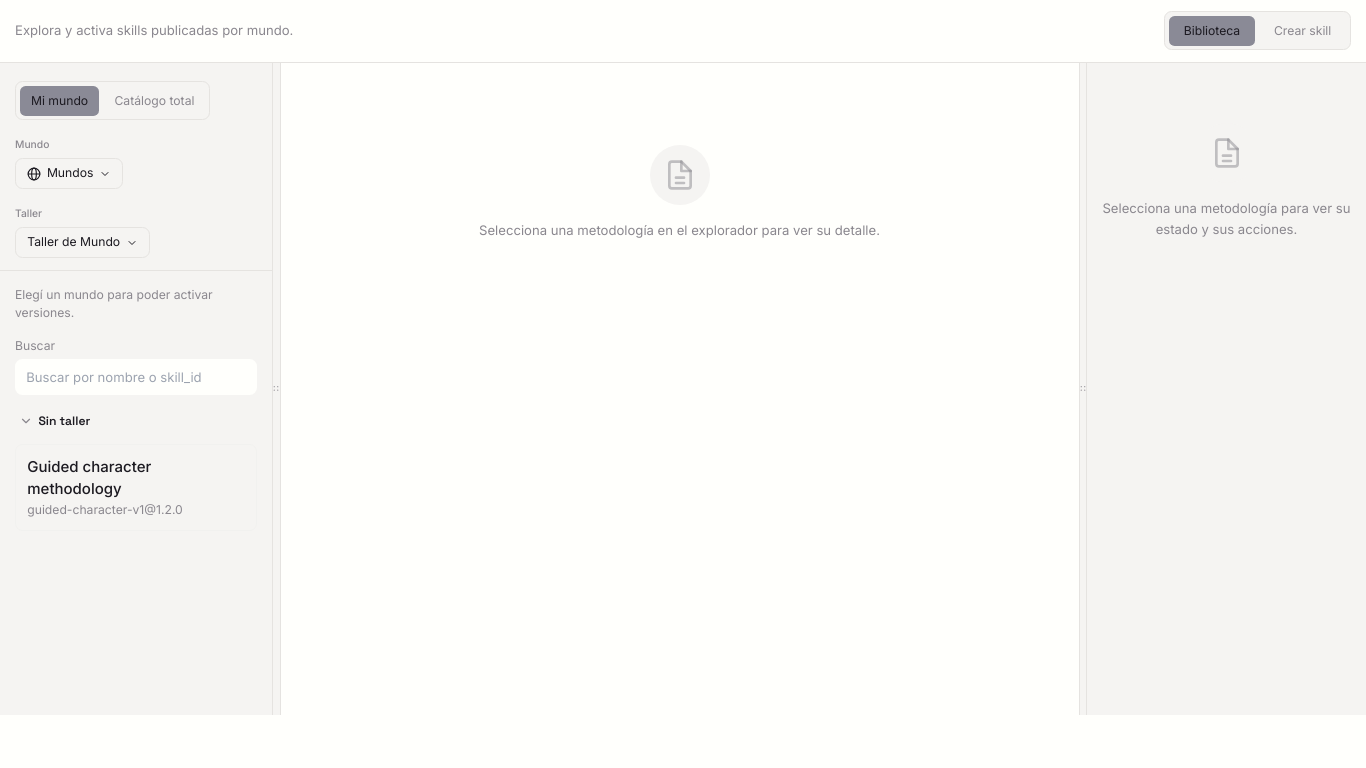
Test: ToolWorkshop › shows the no-world prompt without touching the selection (SC-SB-5.3)
Expected: the text "Elegí un mundo para poder activar versiones." is shown, [15, 287, 213, 320]
# Selection still works without a world...
Click the text "Guided character methodology" at (89,478), box [27, 457, 151, 498]
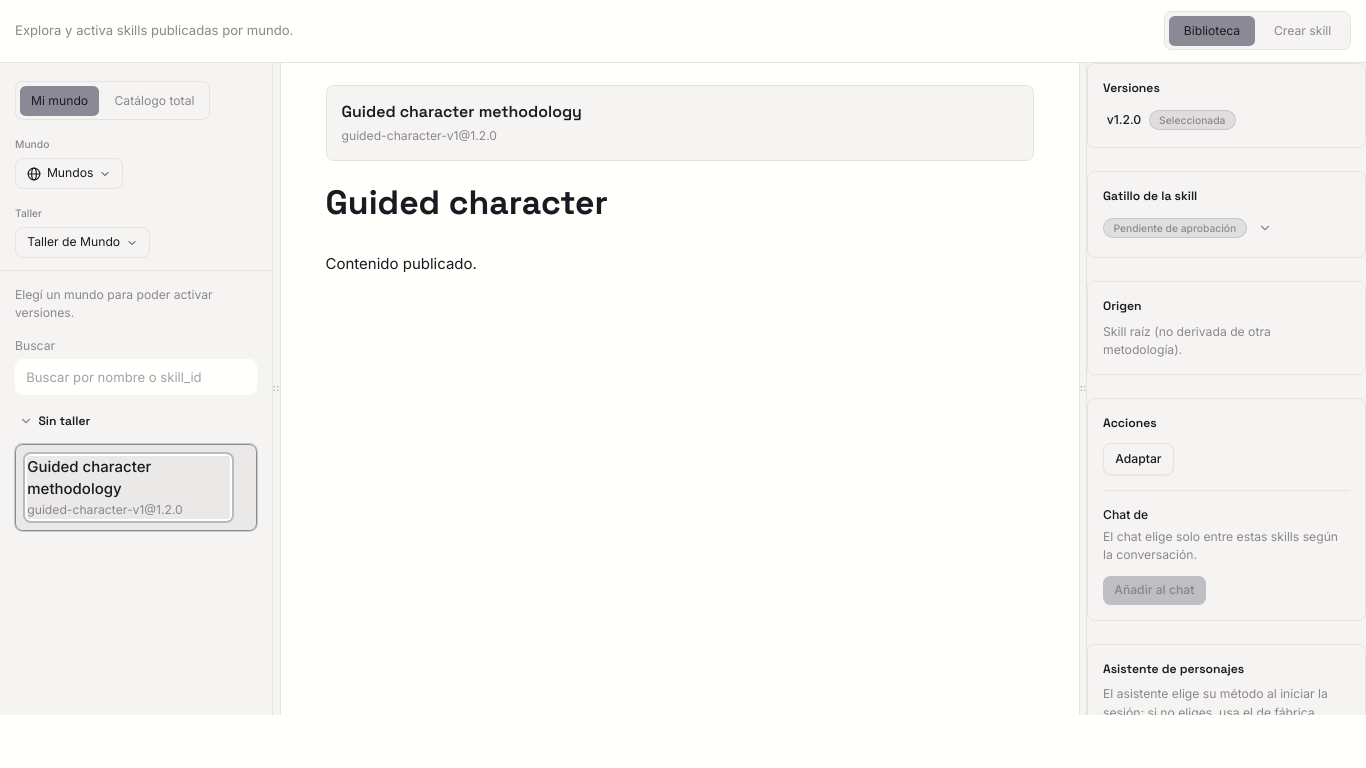
Expected: the text "Elegí un mundo para poder activar versiones." is shown, [15, 287, 213, 320]
Now the heading "Guided character methodology" is shown, box [342, 101, 582, 123]
